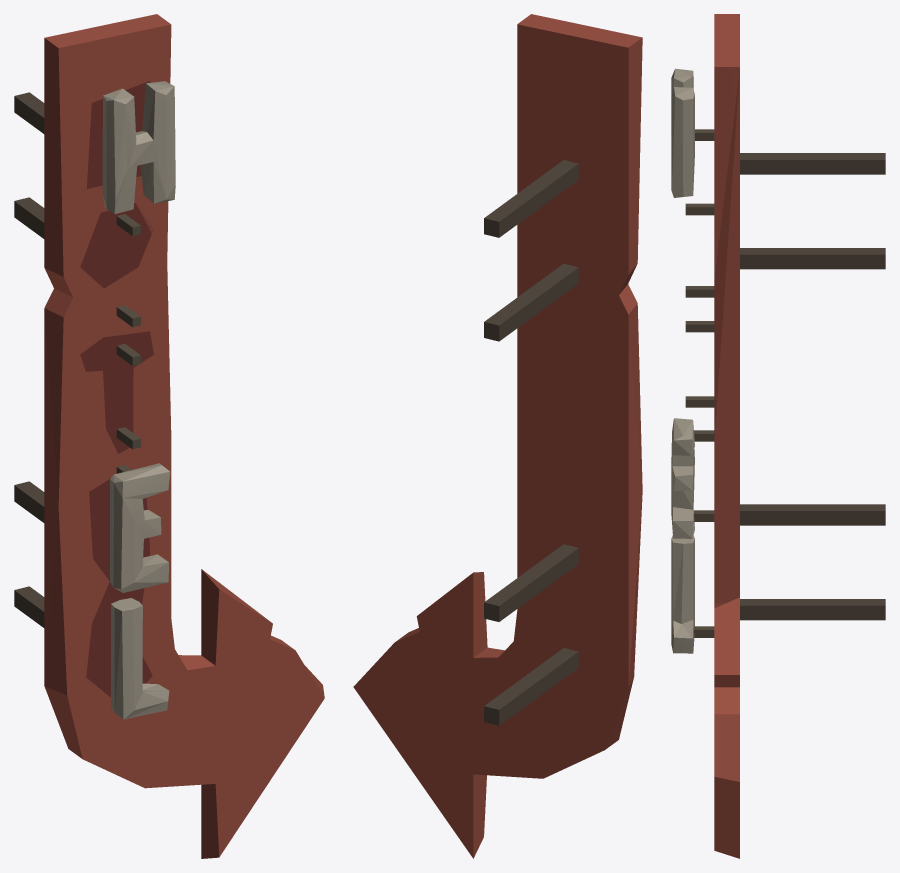
Rendered from SM_Prop_Sign_Hotel_01_390.obj.
3 views of the same model, side by side, from view 1: azimuth 30°, elevation 25°; view 2: azimuth 150°, elevation 25°; view 3: azimuth 270°, elevation 25° (orthographic). The views are drawn at different scales.
Visible parts, largest first — view 1: SM_Prop_Sign_Hotel_01_0; view 2: SM_Prop_Sign_Hotel_01_0; view 3: SM_Prop_Sign_Hotel_01_0.
Boxes of the visible parts, x1,y1,x2,y2 form: SM_Prop_Sign_Hotel_01_0: (14,14,324,858); SM_Prop_Sign_Hotel_01_0: (353,14,642,858); SM_Prop_Sign_Hotel_01_0: (671,14,885,858).
Bounding box in the file's own units: 1.27 × 3.74 × 0.9345.
1 material, 1 textured.
